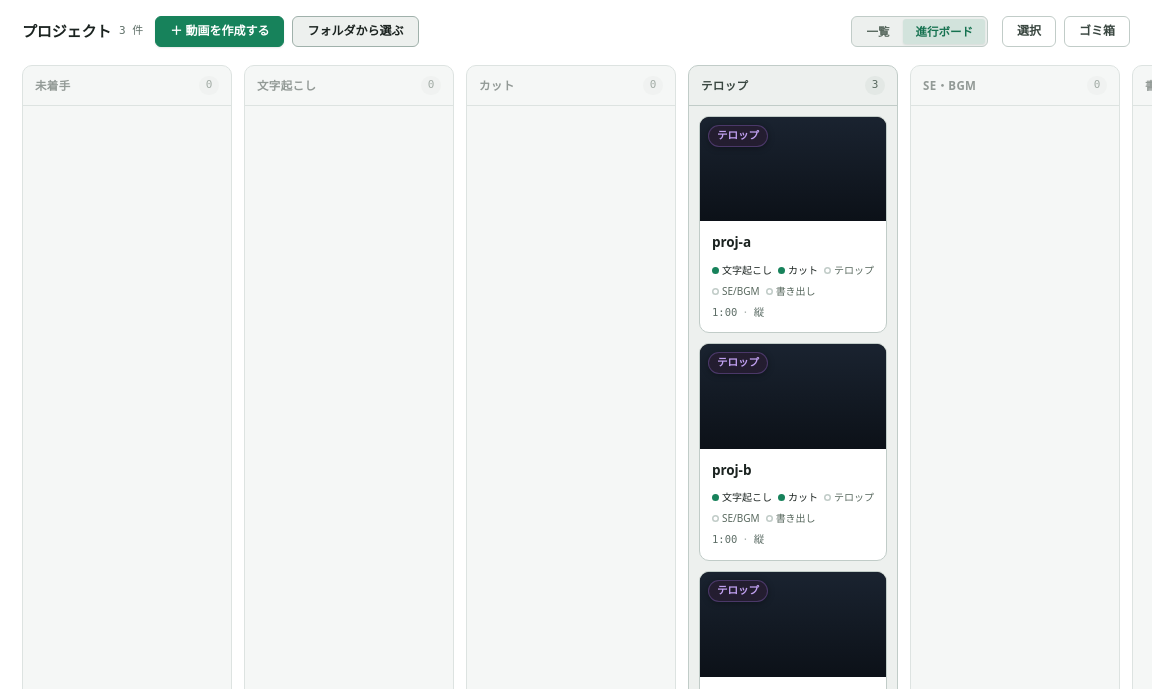
Test: 進行ボードの選択モード › busy で失敗した項目はスキップして続行し、理由つきで通知する
This screenshot has width=1152, height=689.
Click the button "選択": (1029, 32) top-left (1002, 16), bottom-right (1056, 47)
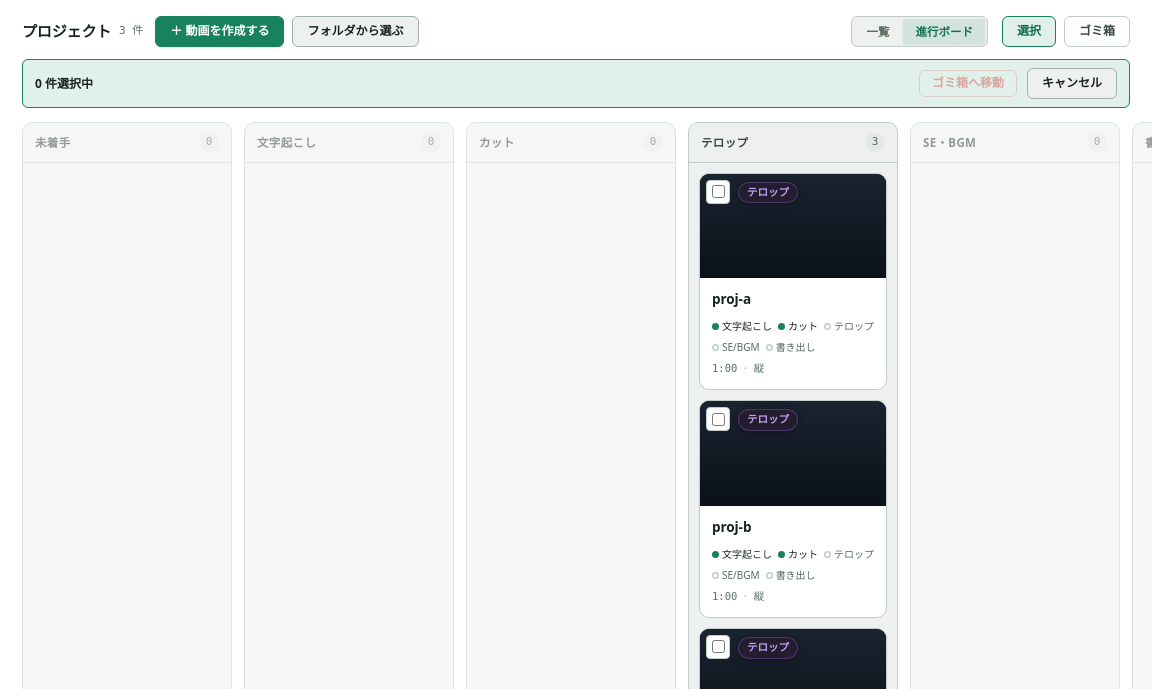
Click the button "proj-a": (793, 281) top-left (699, 172), bottom-right (887, 390)
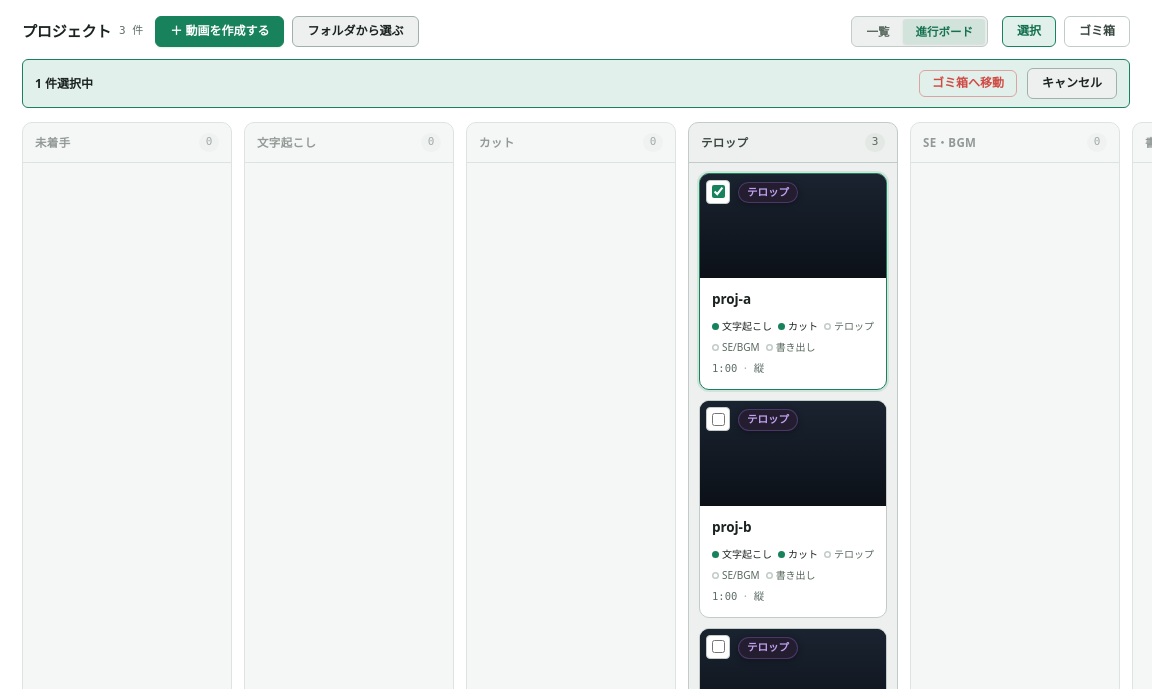
Click the button "proj-b": (793, 509) top-left (699, 400), bottom-right (887, 618)
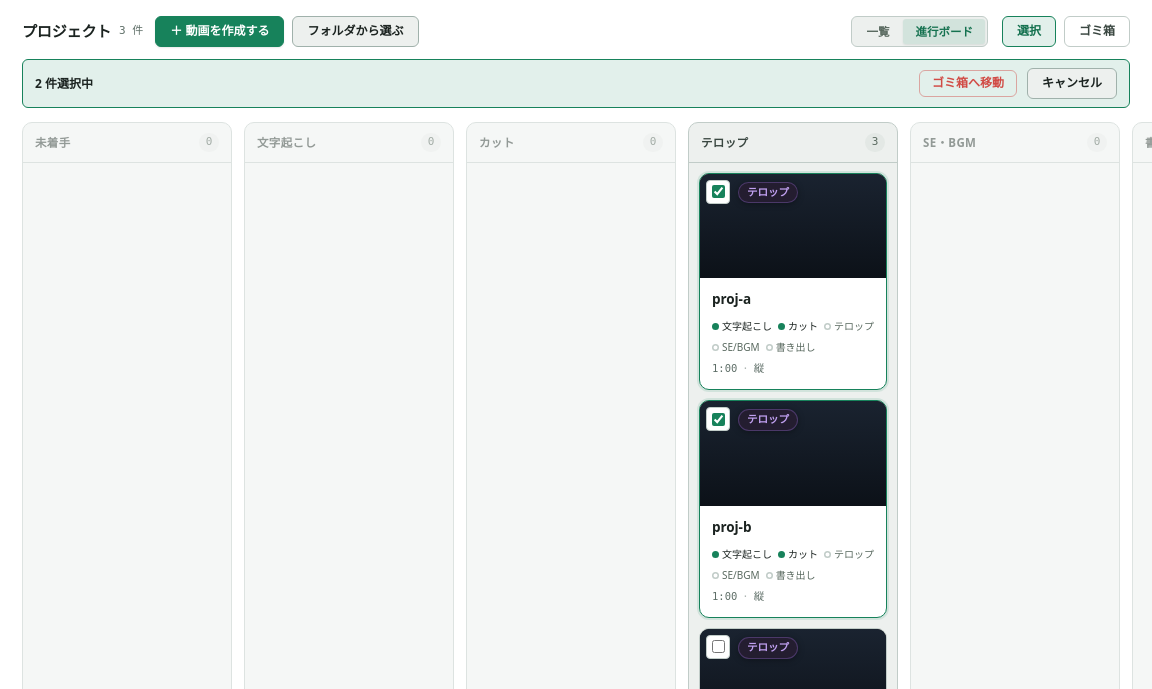
Click the button "ゴミ箱へ移動": (968, 84) top-left (919, 70), bottom-right (1017, 97)
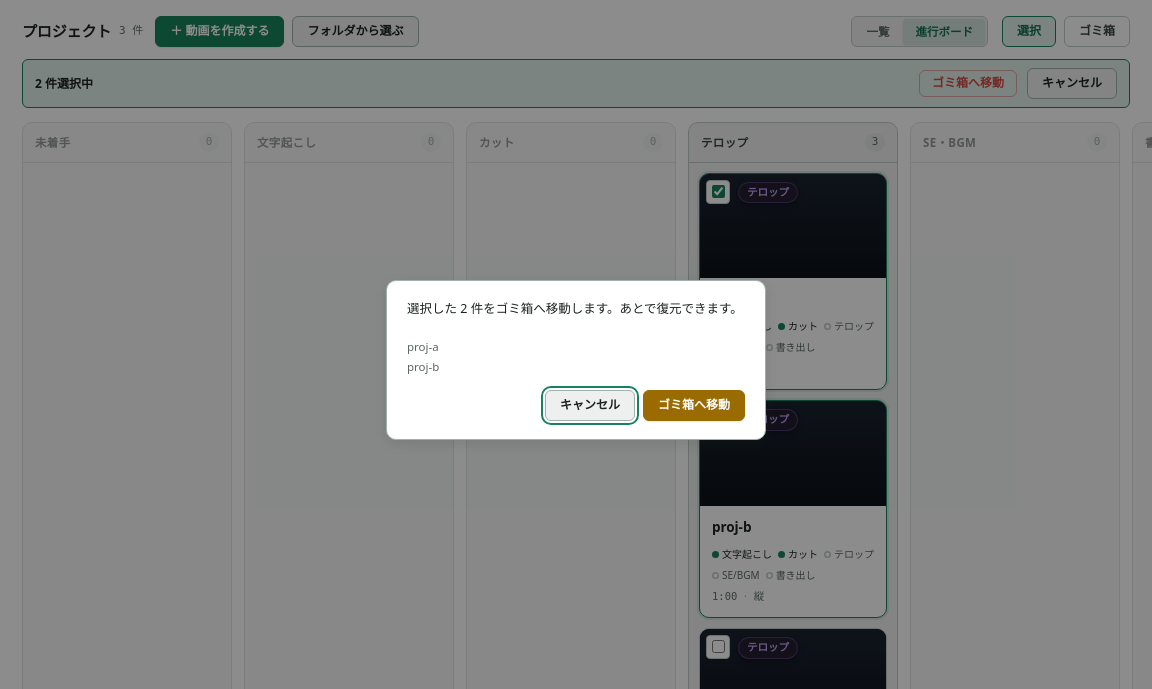
Click the button with test id "trash-confirm-ok": (694, 405) top-left (643, 390), bottom-right (745, 421)
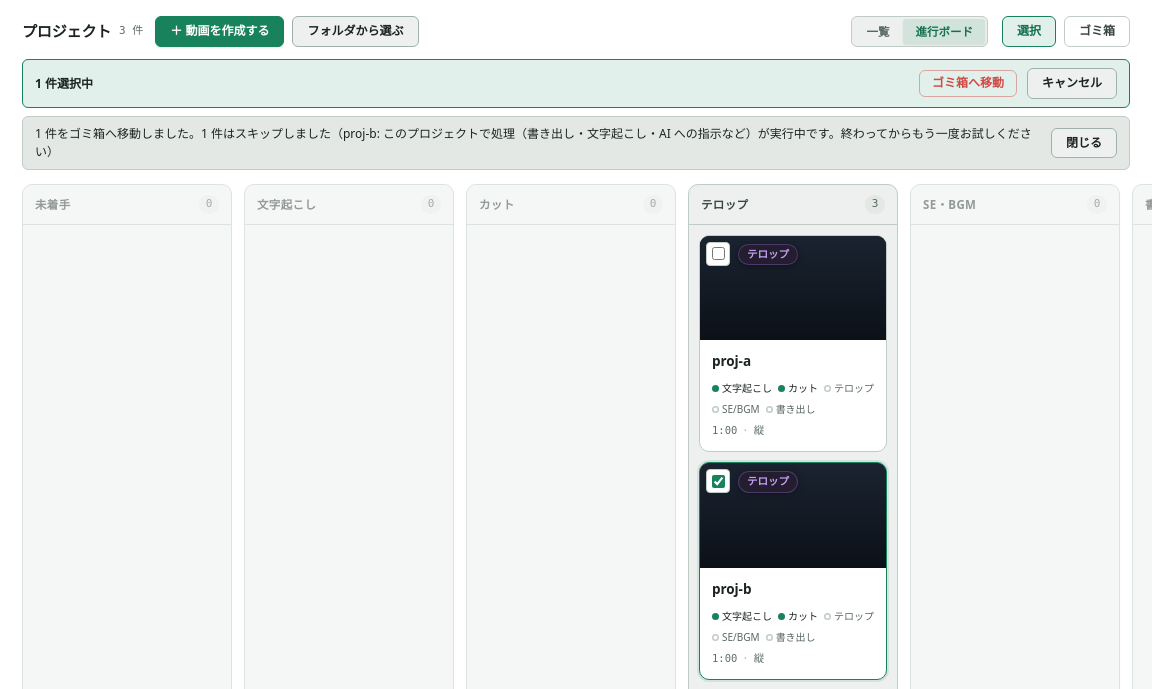
Result: the message with test id "home-bulk-notice" shows "1 件をゴミ箱へ移動しました" at top-left (35, 125), bottom-right (1032, 160)
Result: the message with test id "home-bulk-notice" shows "1 件はスキップしました" at top-left (35, 125), bottom-right (1032, 160)
Result: the message with test id "home-bulk-notice" shows "proj-b" at top-left (35, 125), bottom-right (1032, 160)
